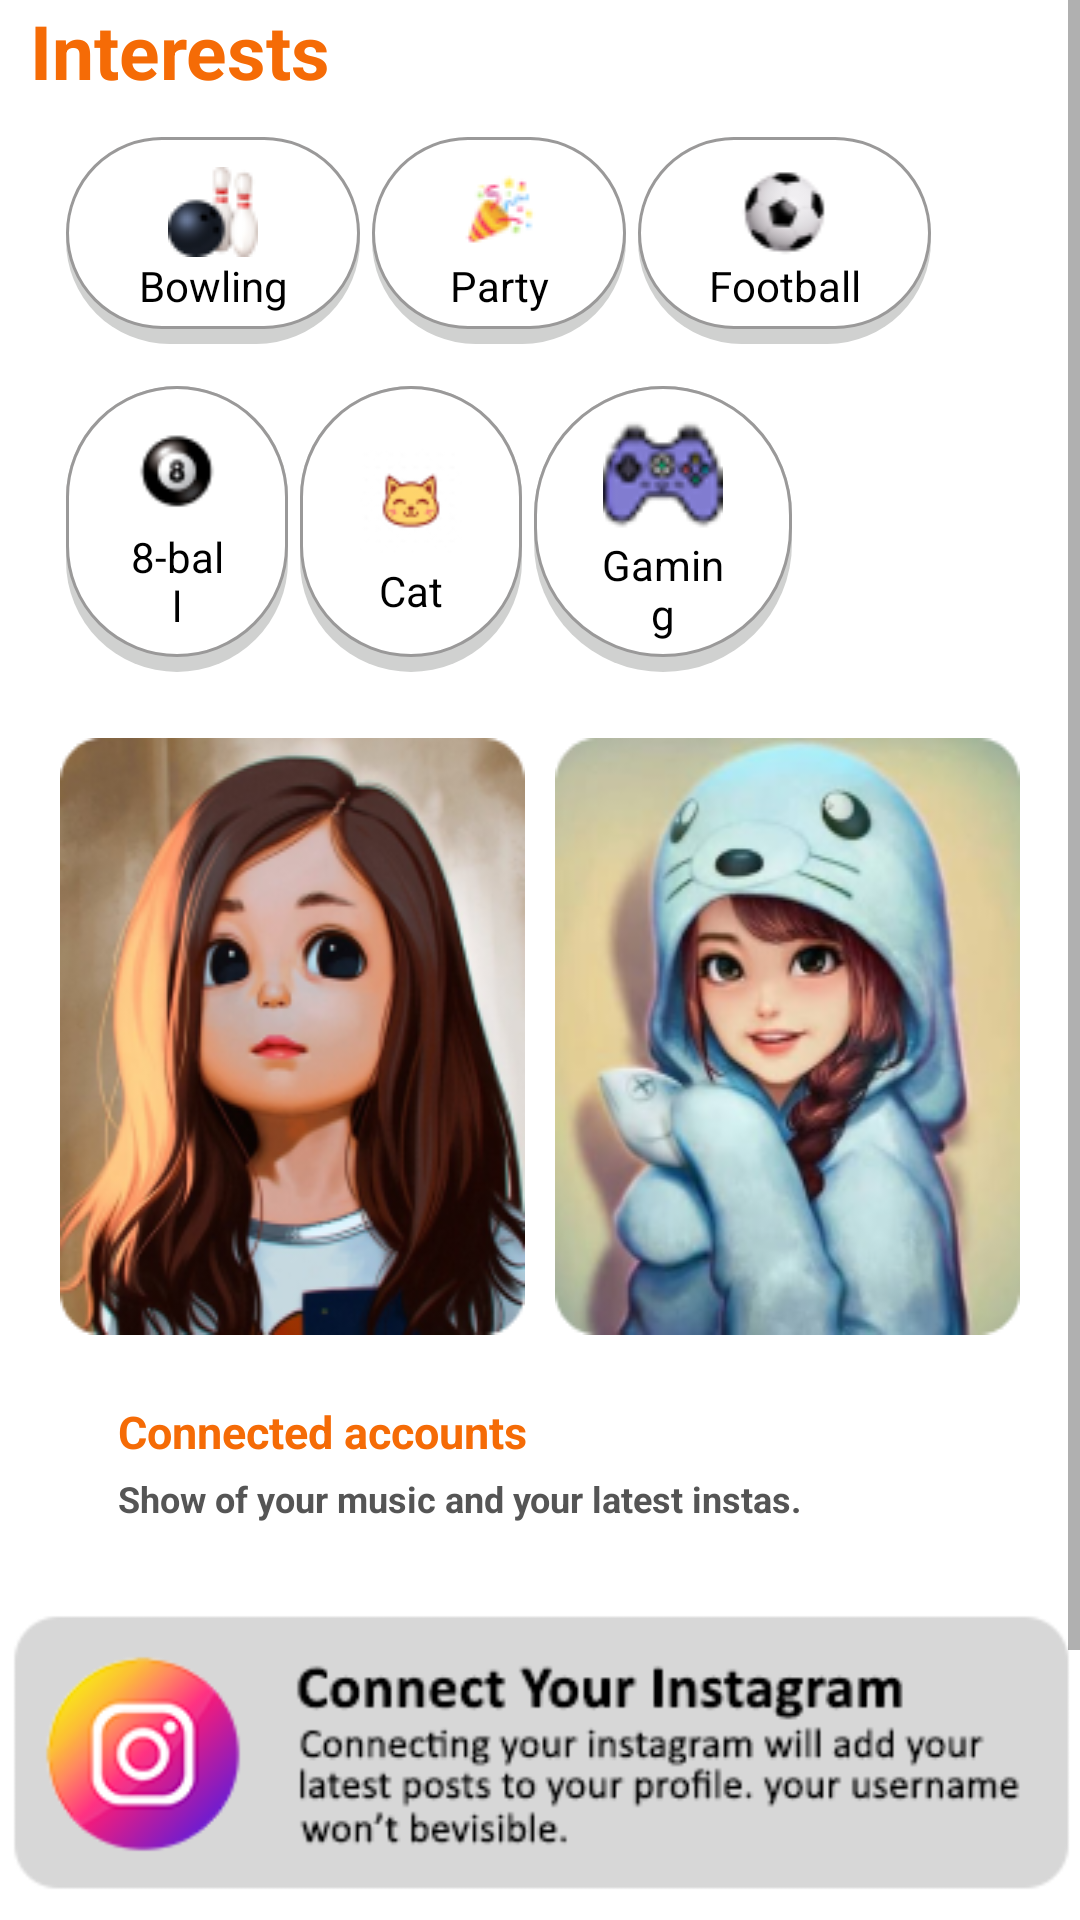

Where to tap for icons on this 1080 x 1920 app screen, as point (x, y):
game remout: point (663, 475)
